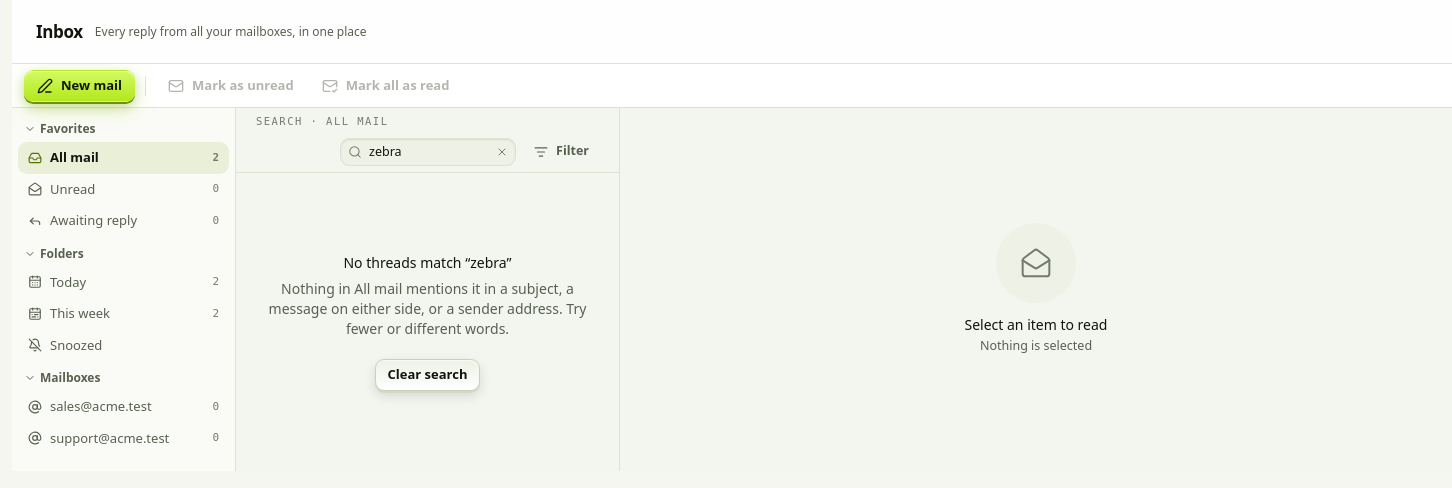
Test: a search with no hits shows the empty state, not an error
Expected: the text "No threads match “zebra”" shows "or a sender address", [269,279,586,338]
Click the button "Clear search".
click(427, 375)  # box [374,359,480,391]
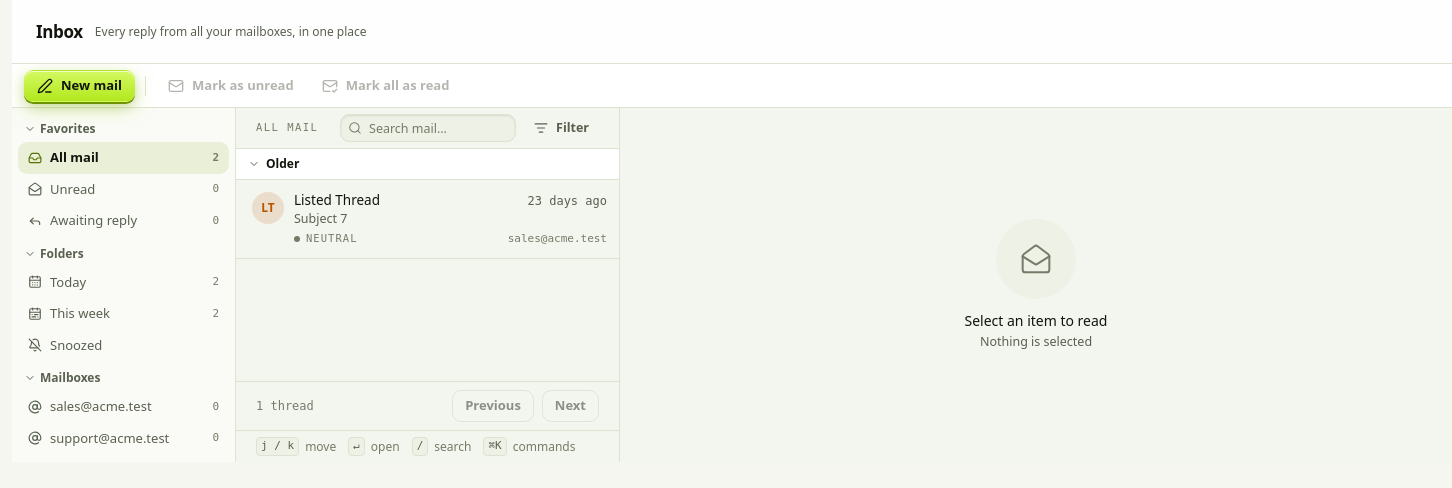
Expected: the text "Listed Thread" is shown, [294,191,380,209]
